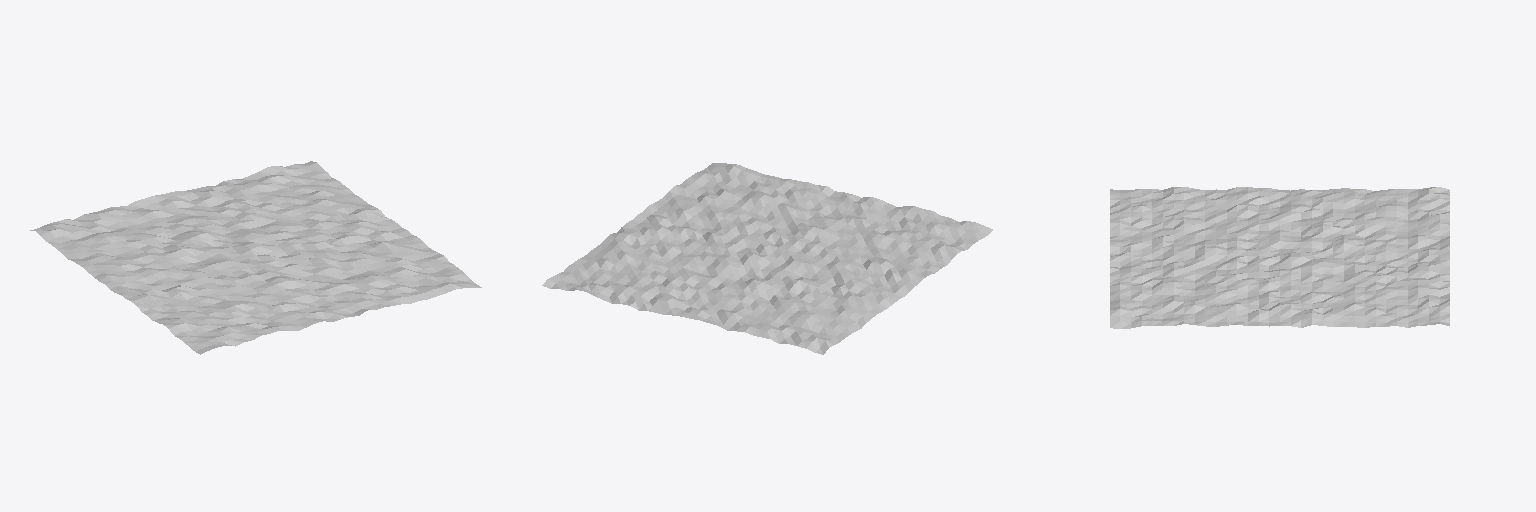
File: Terrain.obj
The picture shows the model from 3 angles: view 1: azimuth 30°, elevation 25°; view 2: azimuth 150°, elevation 25°; view 3: azimuth 270°, elevation 25°; orthographic projection.
Visible parts, largest first — view 1: Plane.001; view 2: Plane.001; view 3: Plane.001.
Part boxes in pixels (x1,y1,x2,y2): Plane.001: (30,161,481,354); Plane.001: (542,163,992,354); Plane.001: (1110,187,1449,328).
Size of the model in its own units: 32.59 by 0.9168 by 34.15.